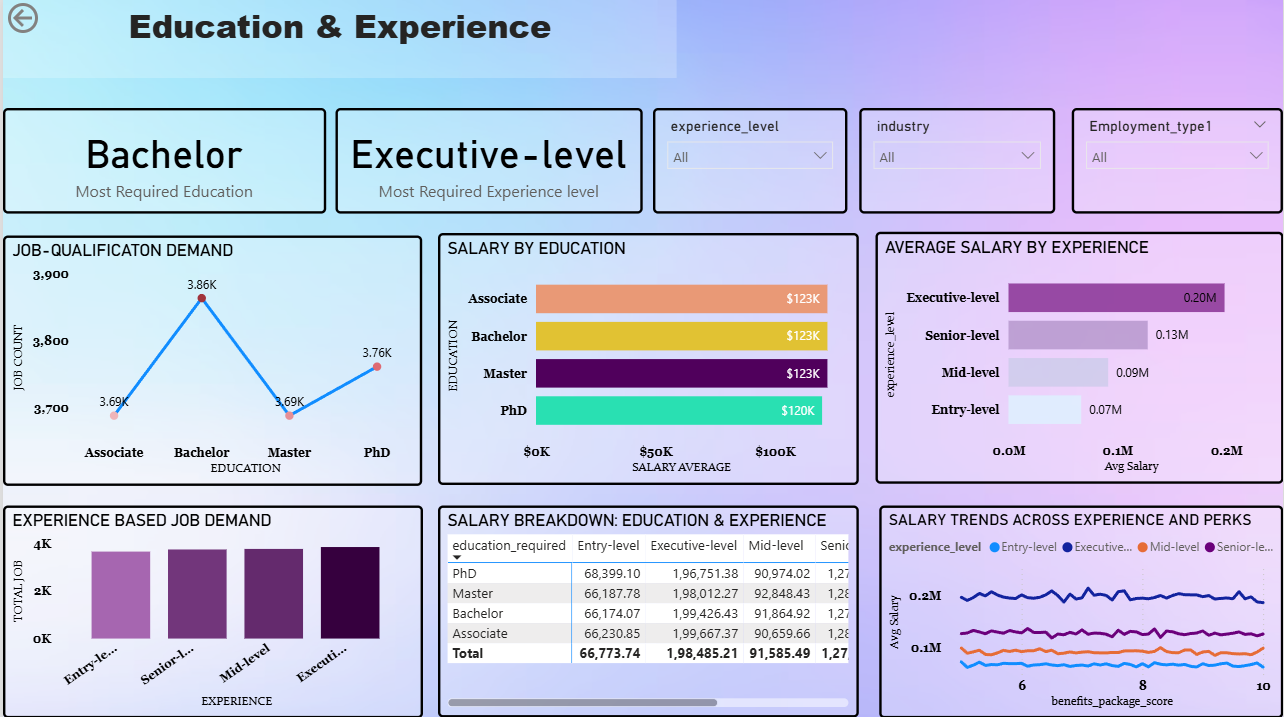

The page's visual inventory and layout, read from the dashboard file:
{"tool":"powerbi","page":{"name":"education & experience","canvas":[1280,720],"ordinal":4},"visuals":[{"type":"barChart","title":"SALARY BY EDUCATION","fields":{"Category":["ai_job_dataset1.education_required"],"Y":["Avg(ai_job_dataset1.salary_usd)"]},"box":[434.8,235.2,420.8,251.7],"z":0},{"type":"areaChart","title":"JOB-QUALIFICATON DEMAND","fields":{"Category":["Dim_EducationRequired.education_required"],"Y":["CountNonNull(ai_job_dataset1.job_id)"]},"box":[0,237.7,419.5,250.5],"z":1000},{"type":"slicer","fields":{"Values":["ai_job_dataset1.experience_level"]},"box":[650,110,194.3,105.7],"z":2000},{"type":"slicer","fields":{"Values":["ai_job_dataset1.Employment_type1"]},"box":[1068.6,110,211.4,105.7],"z":3000},{"type":"slicer","fields":{"Values":["Dim_Industry.industry"]},"box":[855.7,110,195.7,105.7],"z":4000},{"type":"clusteredColumnChart","title":" EXPERIENCE BASED JOB DEMAND","fields":{"Y":["CountNonNull(ai_job_dataset1.job_id)"],"Category":["ai_job_dataset1.experience_level"]},"box":[0,507.1,420,212.9],"z":5000},{"type":"clusteredBarChart","title":"AVERAGE SALARY BY EXPERIENCE","fields":{"Y":["ai_job_dataset1.Avg Salary"],"Category":["ai_job_dataset1.experience_level"]},"box":[872.3,234,407.8,252.1],"z":6000},{"type":"lineChart","title":"SALARY TRENDS ACROSS EXPERIENCE AND PERKS","fields":{"Category":["ai_job_dataset1.benefits_package_score"],"Y":["ai_job_dataset1.Avg Salary"],"Series":["ai_job_dataset1.experience_level"]},"box":[875.7,507.1,404.3,212.9],"z":7000},{"type":"pivotTable","title":"SALARY BREAKDOWN: EDUCATION & EXPERIENCE","fields":{"Rows":["ai_job_dataset1.education_required"],"Values":["ai_job_dataset1.Avg Salary"],"Columns":["ai_job_dataset1.experience_level"]},"box":[434.8,507.3,420.8,212.3],"z":8000},{"type":"actionButton","box":[0,0,100,40],"z":9000},{"type":"textbox","box":[0,0,673.8,80.1],"z":10000},{"type":"card","fields":{"Values":["Dim_CompanySize.Most Required Education"]},"box":[0,110,322.9,105.7],"z":11000},{"type":"card","fields":{"Values":["Dim_CompanySize.Most Required Experience level"]},"box":[332.9,110,307.1,105.7],"z":12000}]}

Visuals, with their boxes in screenshot pixels (x1, y1, x2, y2), scaled from the page's 1280x720 canvas onto the 1284x717 screenshot:
"SALARY BY EDUCATION" barChart: bbox=(436, 234, 858, 485)
"JOB-QUALIFICATON DEMAND" areaChart: bbox=(0, 237, 421, 486)
slicer - ai_job_dataset1.experience_level: bbox=(652, 110, 847, 215)
slicer - ai_job_dataset1.Employment_type1: bbox=(1072, 110, 1283, 215)
slicer - Dim_Industry.industry: bbox=(858, 110, 1055, 215)
" EXPERIENCE BASED JOB DEMAND" clusteredColumnChart: bbox=(0, 505, 421, 716)
"AVERAGE SALARY BY EXPERIENCE" clusteredBarChart: bbox=(875, 233, 1283, 484)
"SALARY TRENDS ACROSS EXPERIENCE AND PERKS" lineChart: bbox=(878, 505, 1283, 716)
"SALARY BREAKDOWN: EDUCATION & EXPERIENCE" pivotTable: bbox=(436, 505, 858, 716)
actionButton: bbox=(0, 0, 100, 40)
textbox: bbox=(0, 0, 676, 80)
card - Dim_CompanySize.Most Required Education: bbox=(0, 110, 324, 215)
card - Dim_CompanySize.Most Required Experience level: bbox=(334, 110, 642, 215)
